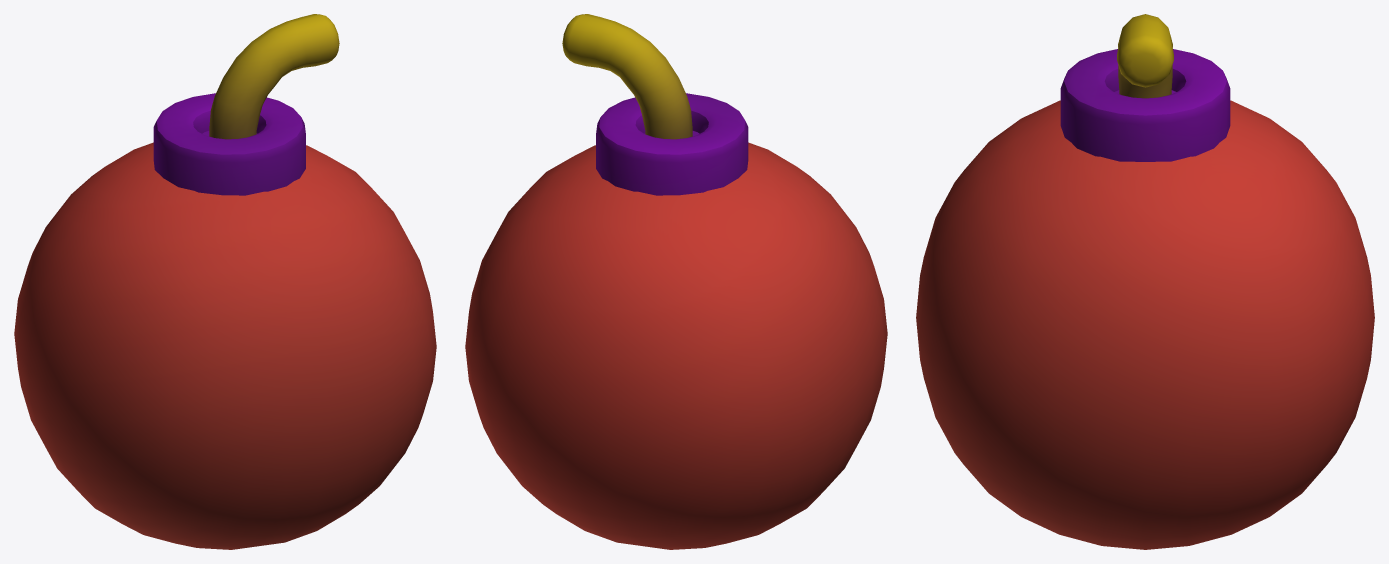
File: bomb_v1.fbx
The picture shows the model from 3 angles, left to right: view 1: azimuth 30°, elevation 25°; view 2: azimuth 150°, elevation 25°; view 3: azimuth 270°, elevation 25°; orthographic projection. The views are drawn at different scales.
Visible parts, largest first — view 1: bomb_v1; view 2: bomb_v1; view 3: bomb_v1.
Boxes of the visible parts, x1,y1,x2,y2 form: bomb_v1: [14, 14, 436, 549]; bomb_v1: [465, 14, 887, 549]; bomb_v1: [916, 14, 1374, 549].
Size of the model in its own units: 59.19 by 77.18 by 59.19.
Materials: 1 (1 with a texture image).
